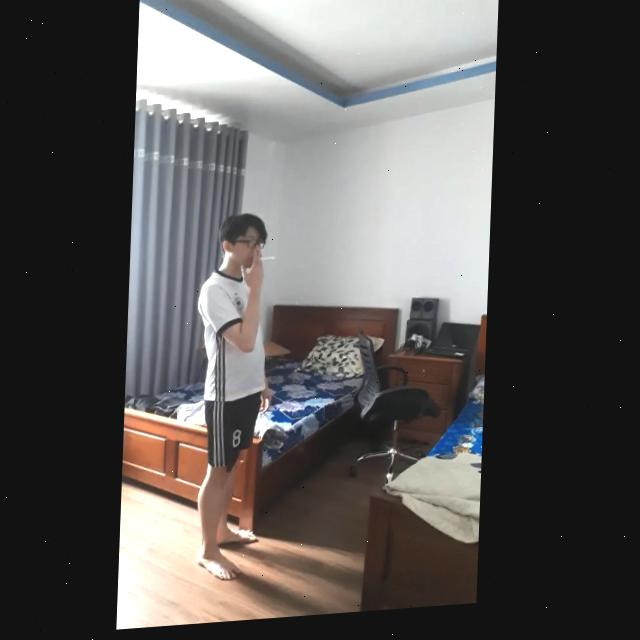cigarette: (262, 260, 278, 265)
